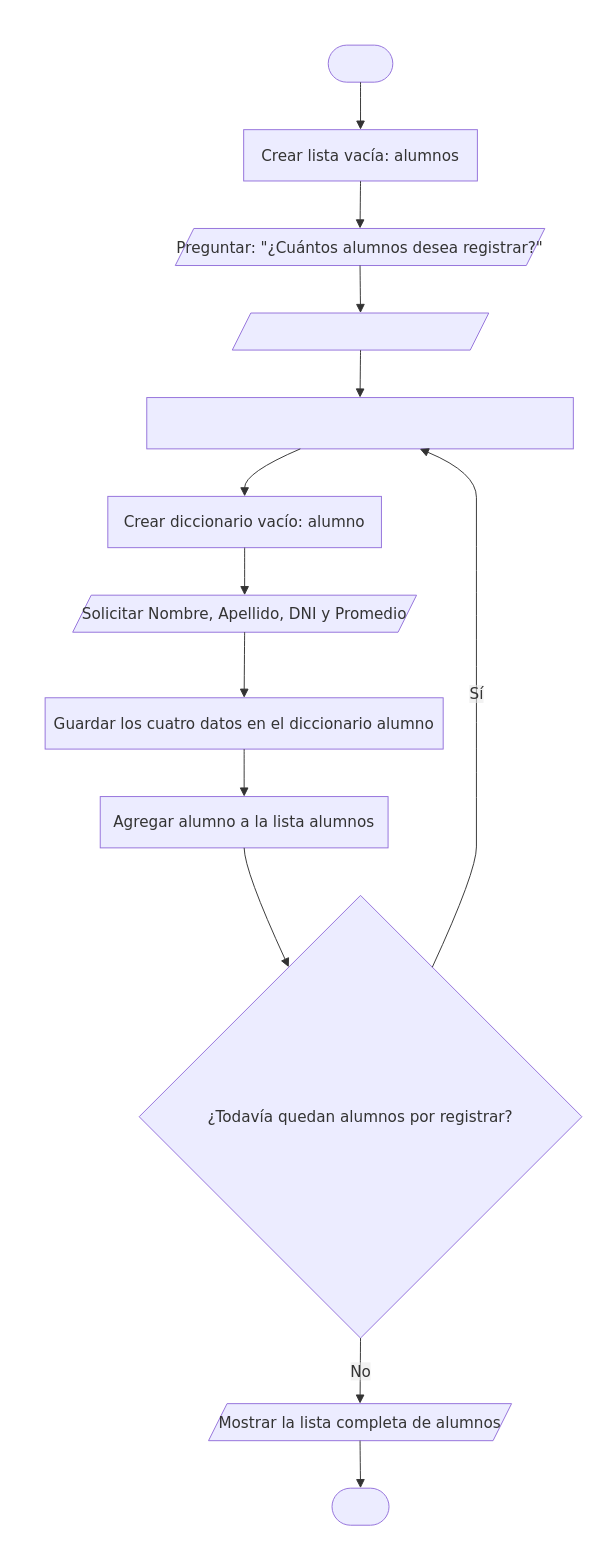
Some shapes in this 599 by 1542 pixel diagram are drawn without their labels. The shapes that lost their labels are listed below. From the top down, each one's box as (x1, y1, x2, y2) in pixels, then its label:
(327, 44, 393, 82): INICIO
(231, 312, 489, 350): Guardar la cantidad ingresada
(146, 397, 573, 449): Iniciar FOR desde alumno 1 hasta la cantidad indicada
(331, 1487, 389, 1525): FIN
